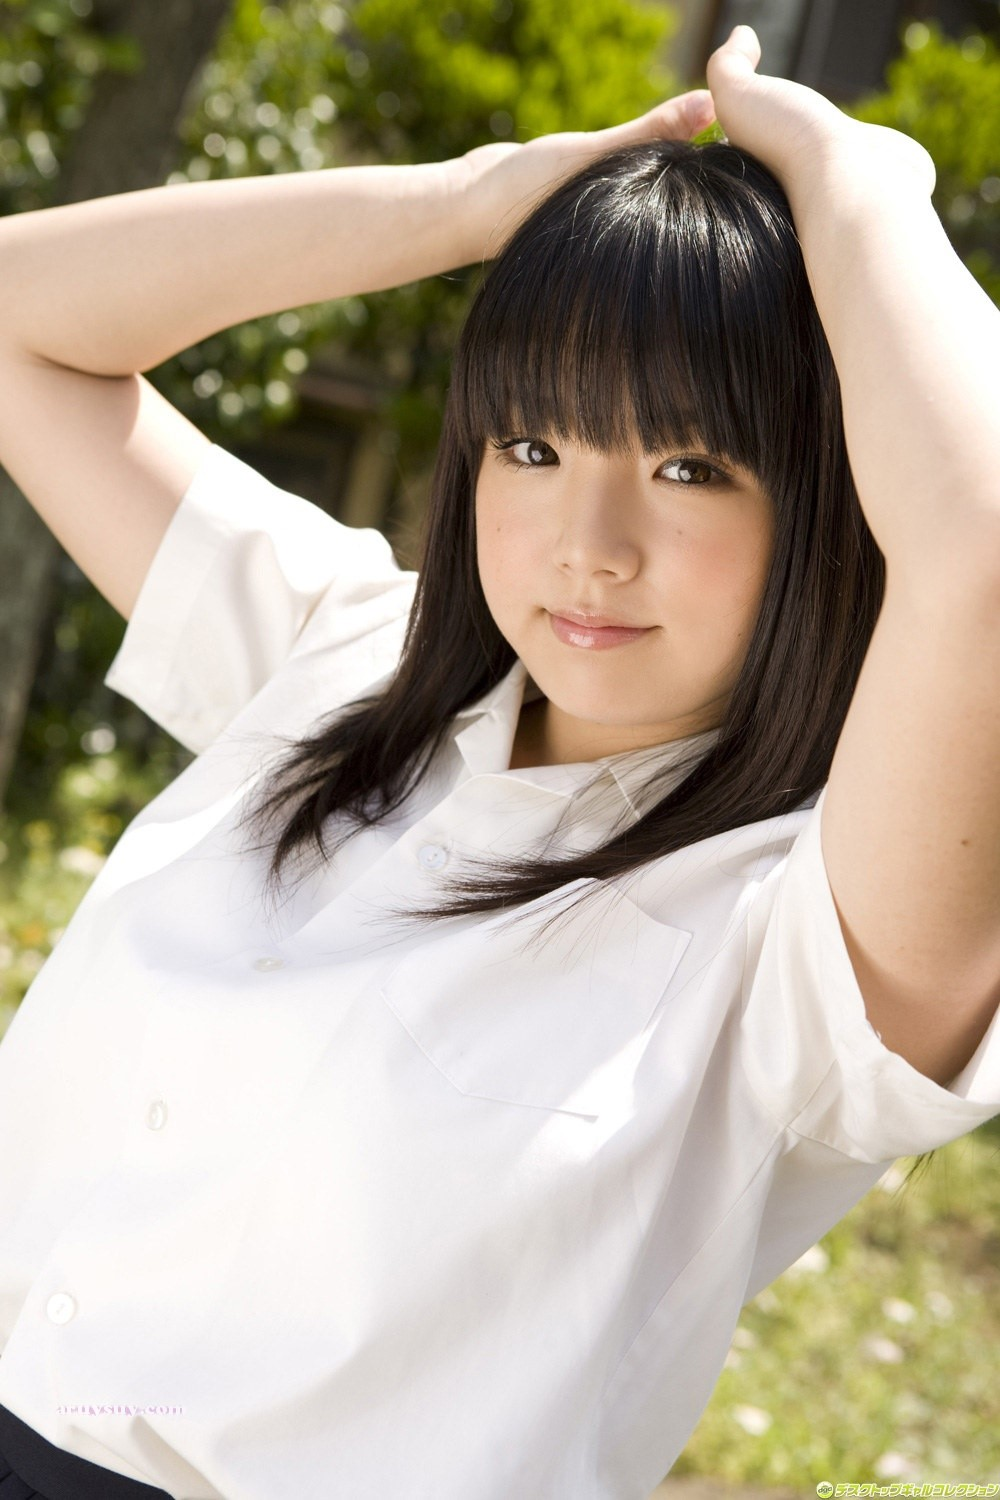face_no_mask: (448, 136, 862, 721)
